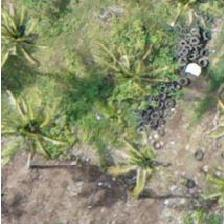Kelapa_Sawit: (85, 29, 175, 119), (100, 123, 190, 213), (0, 84, 78, 174), (0, 0, 58, 85)
